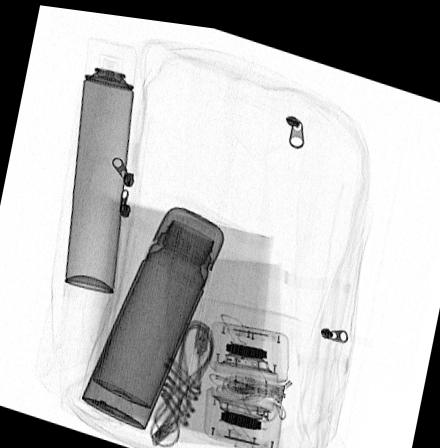Sprayer: (64, 33, 138, 289)
